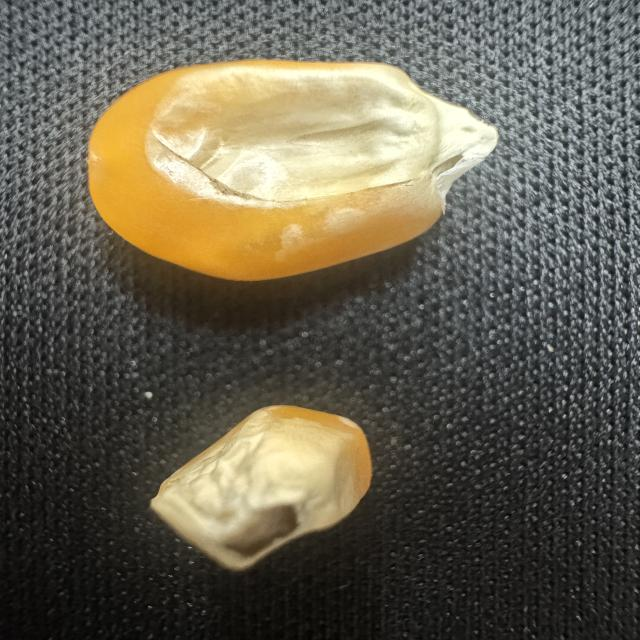Bad-Seed: (138, 405, 390, 573)
Good-Seed: (81, 51, 511, 282)
